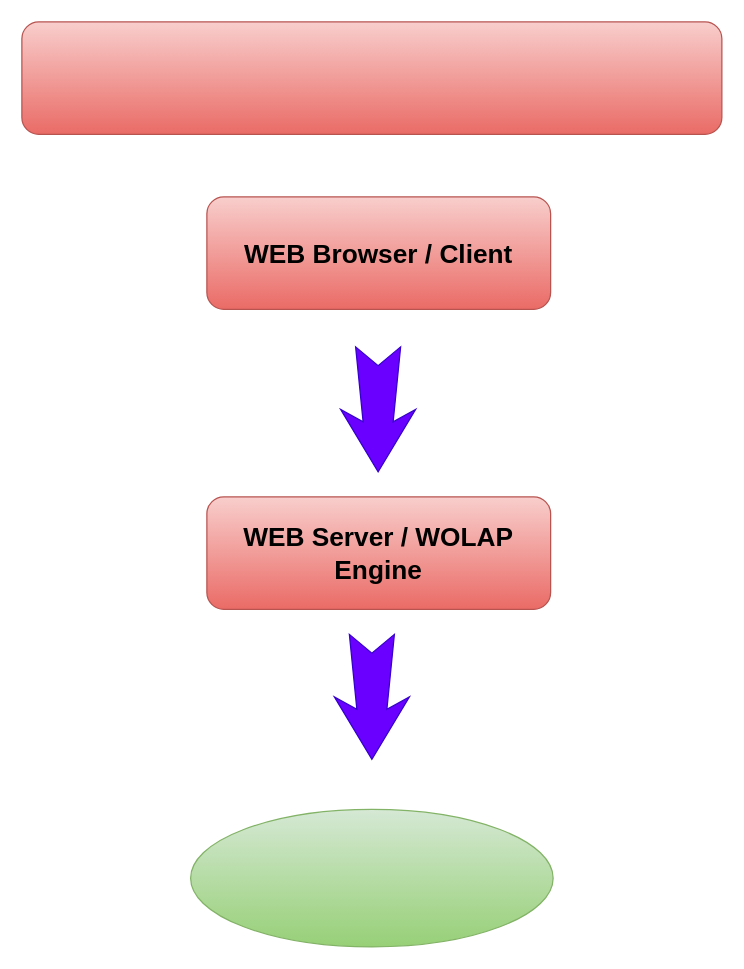
Some shapes in this 744 by 969 pixel diagram are drawn without their labels. Here are the shapes that lost their labels. From the top down, the box of each, then its label:
(21, 21, 722, 134): WOLAP (WEB OLAP) Architecture
(189, 808, 553, 947): OLAP Database / Cube
